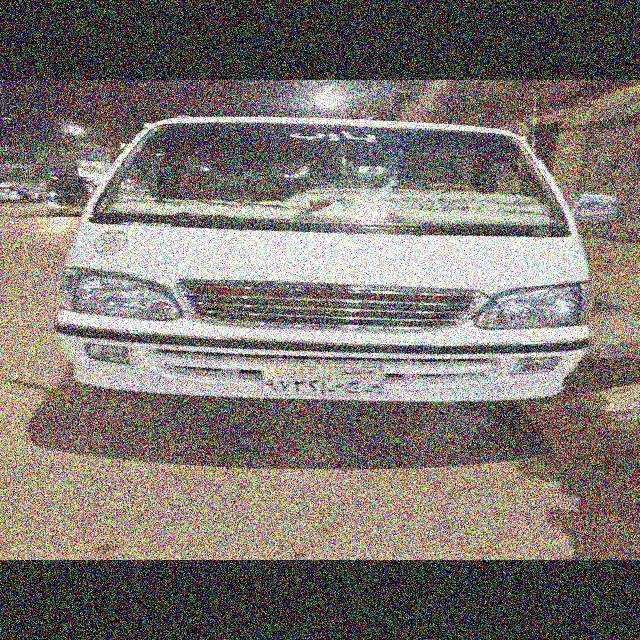License Plate: (258, 363, 385, 399)
